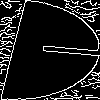L: (25, 25, 100, 60)
